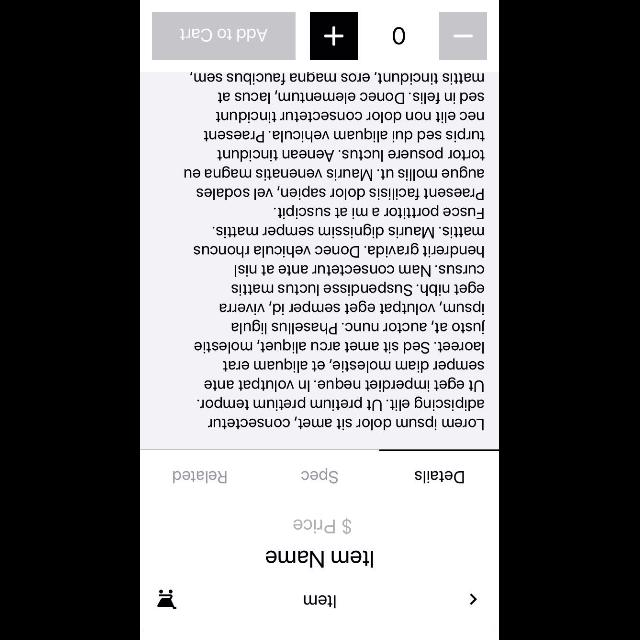icon: (310, 12, 358, 60), (439, 12, 487, 60), (157, 589, 177, 609), (469, 594, 477, 604)
text: (184, 72, 486, 430), (266, 550, 374, 568), (294, 518, 352, 534), (173, 471, 227, 484), (416, 471, 464, 484), (301, 468, 339, 484), (304, 596, 336, 608), (393, 28, 405, 44)
textbutton: (152, 12, 296, 60)
